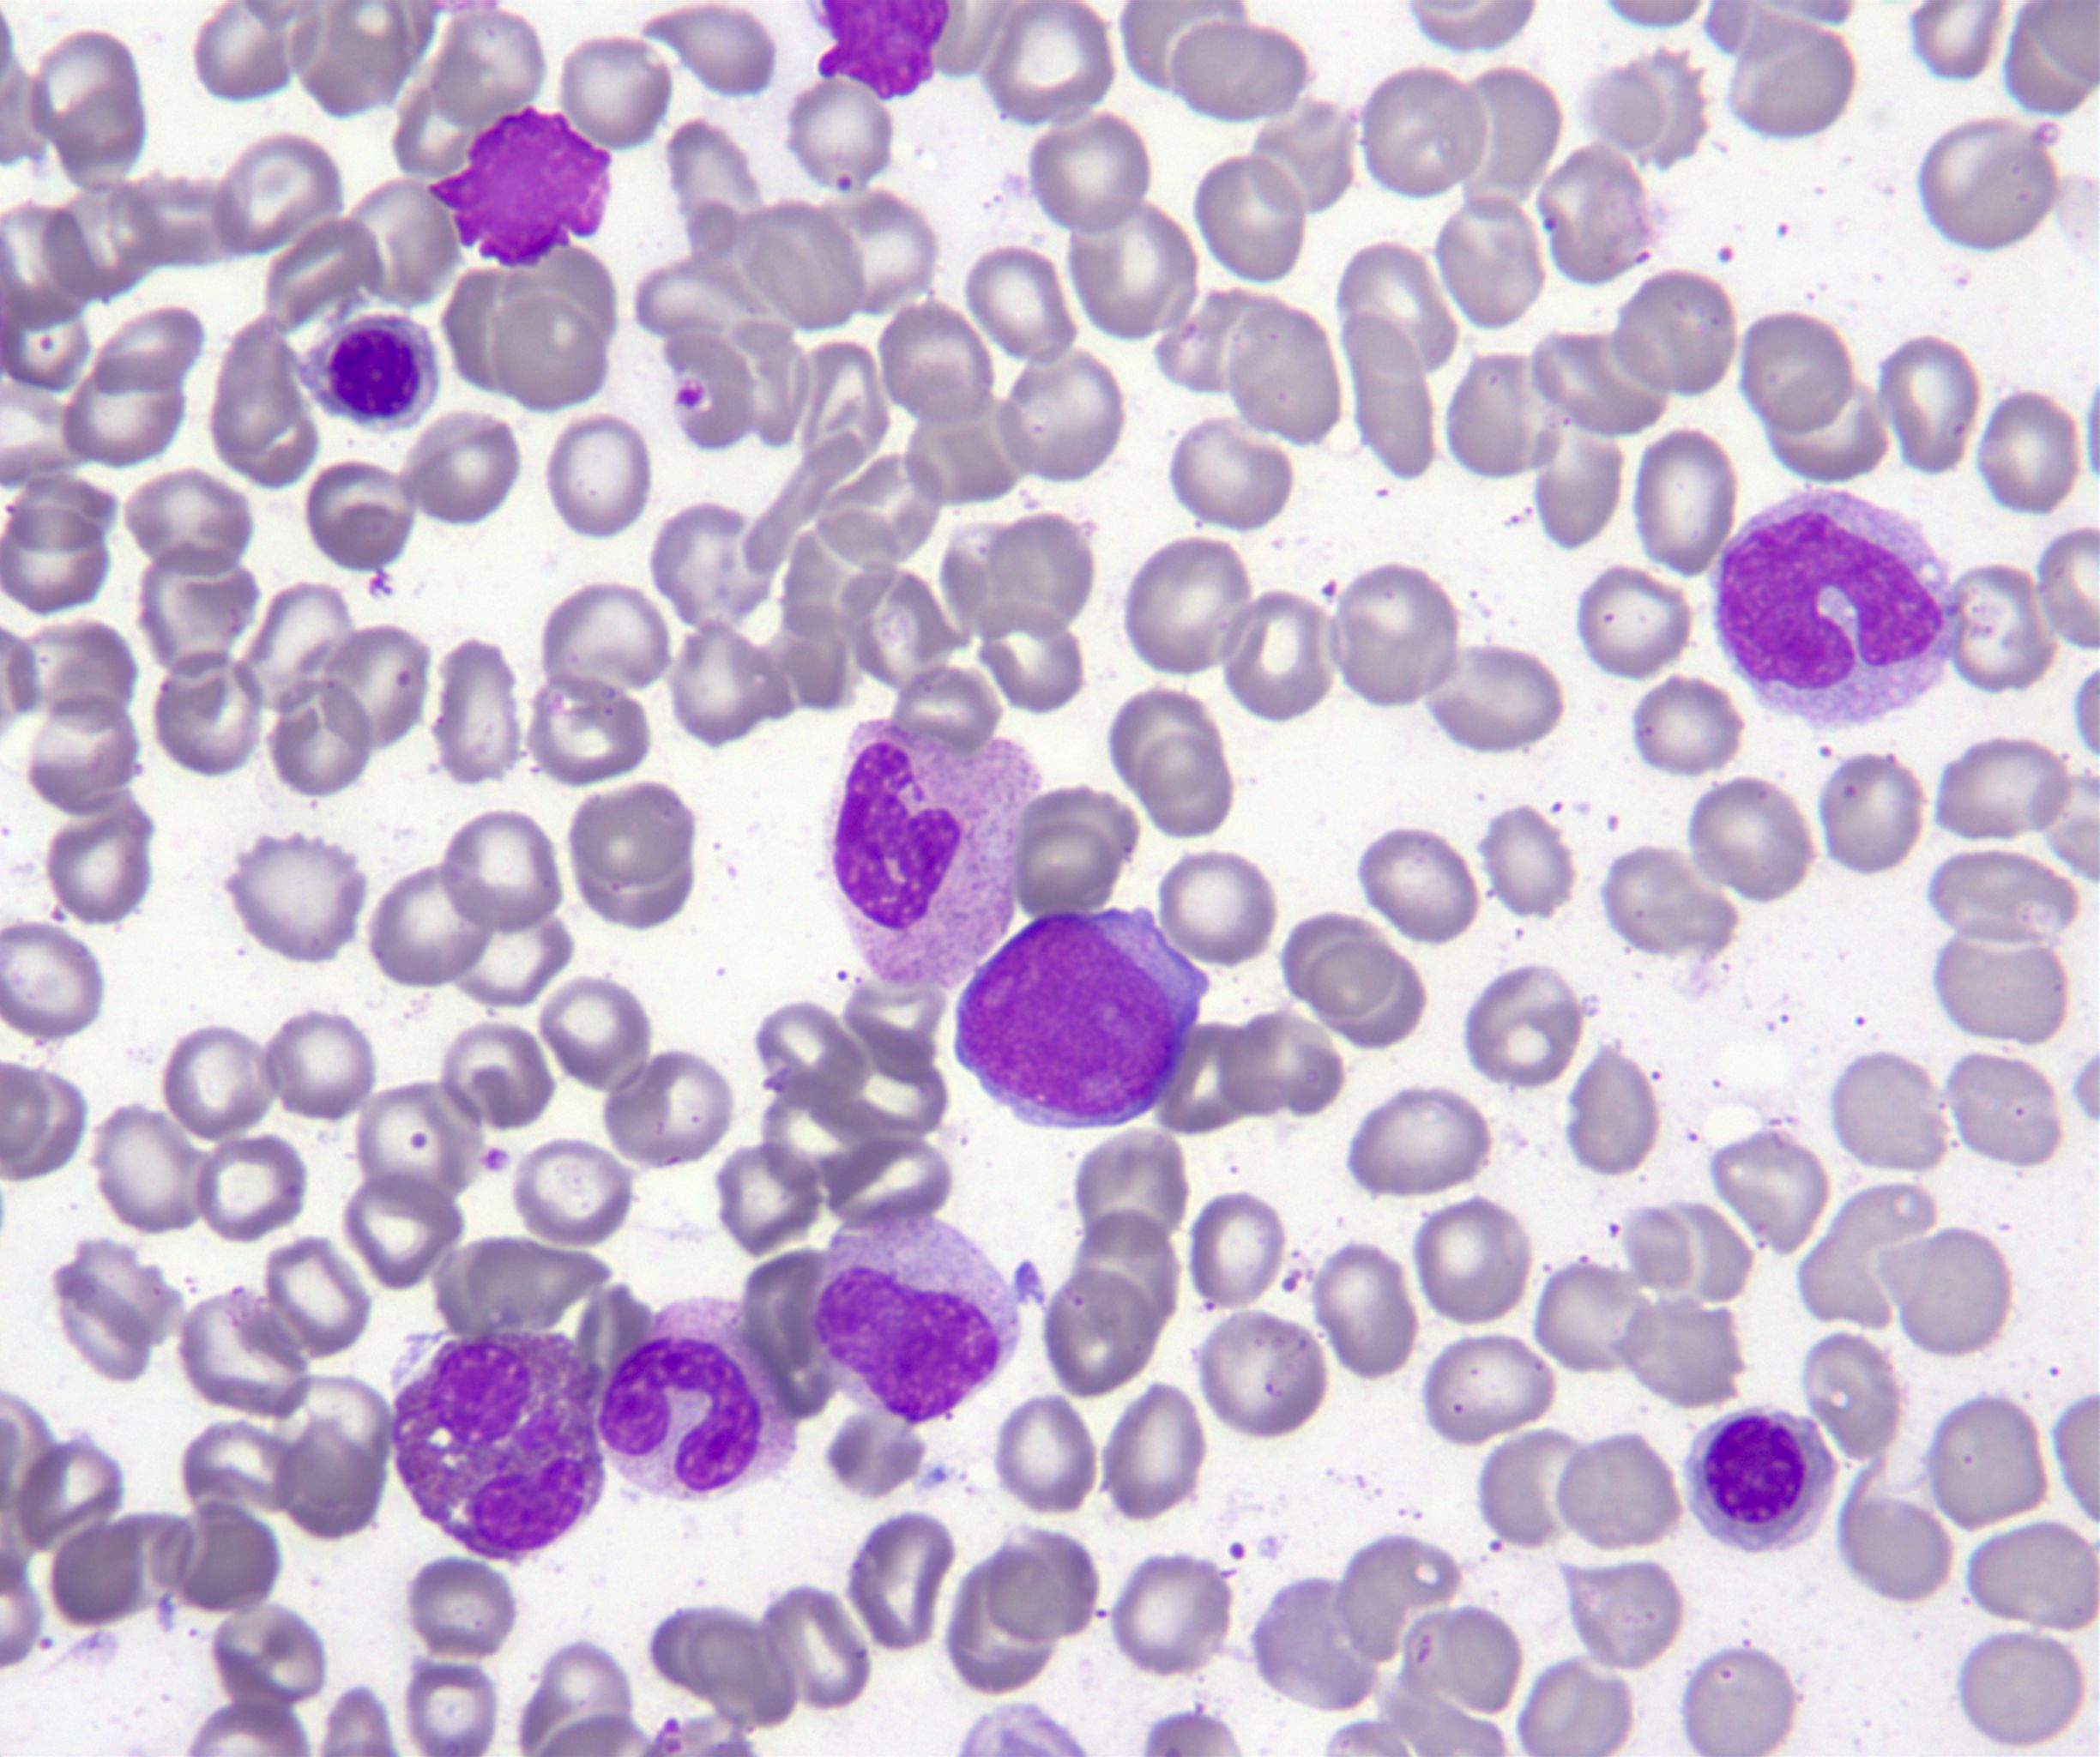1: (954, 907, 1207, 1129)
23: (295, 314, 440, 433)
24: (1685, 1408, 1837, 1551)
32: (809, 1206, 1020, 1422)
42: (1709, 490, 1969, 728)
5: (822, 721, 1041, 989), (593, 1295, 794, 1499)
E4: (392, 1331, 603, 1563)
x: (429, 105, 610, 265), (811, 0, 949, 101)
